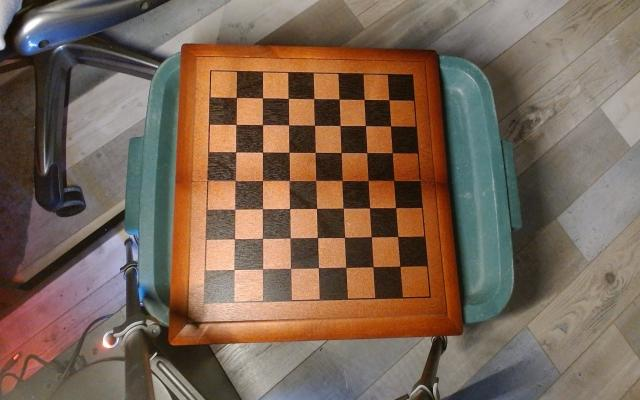corner: (200, 297, 213, 310), (205, 66, 219, 78), (405, 70, 418, 82), (426, 291, 436, 302)
